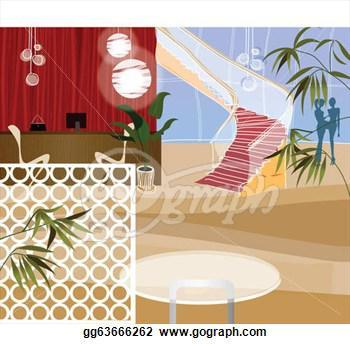diningtable: (106, 246, 285, 328)
person: (307, 97, 329, 162), (323, 94, 341, 165)
pottedplant: (106, 85, 178, 195)
